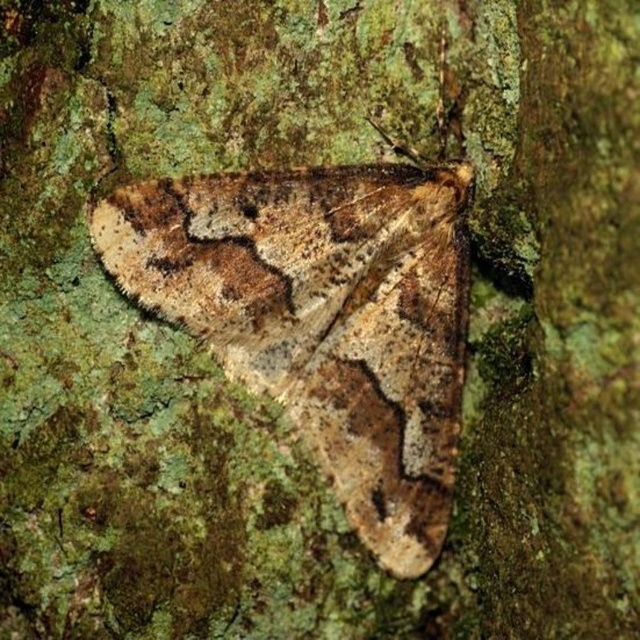Moths and butterflies: (86, 19, 540, 584)
